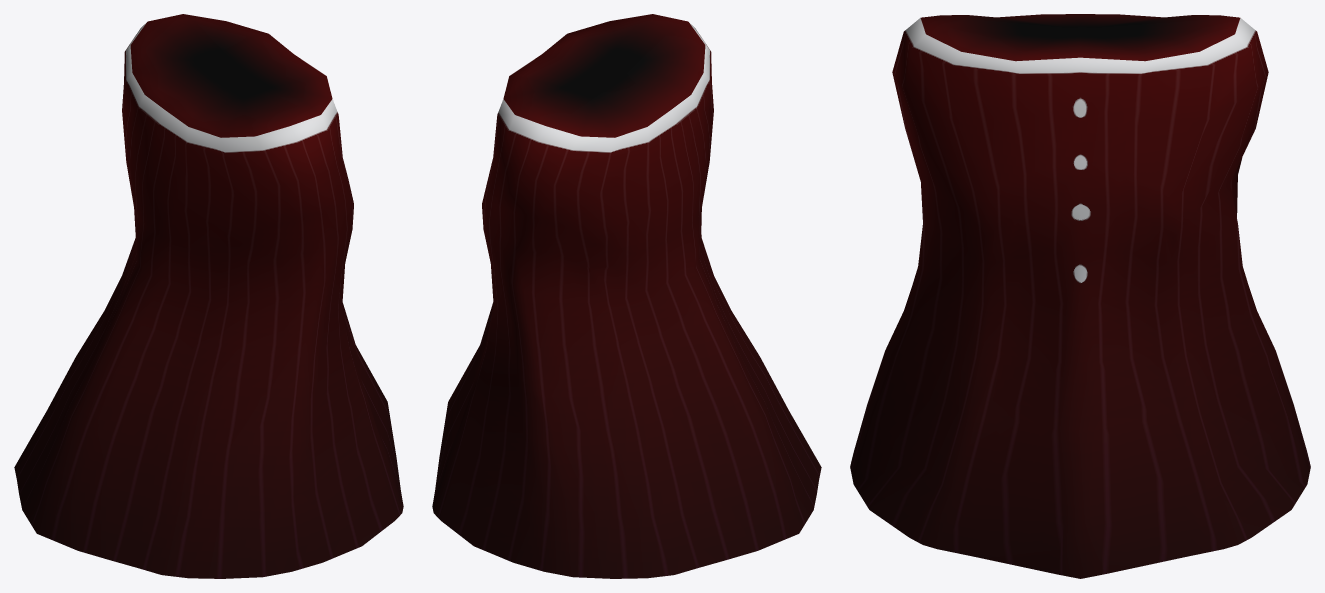
Rendered from HatredEnemyBody.fbx.
3 views of the same model, side by side, from view 1: azimuth 30°, elevation 25°; view 2: azimuth 150°, elevation 25°; view 3: azimuth 270°, elevation 25° (orthographic). The views are drawn at different scales.
Parts seen in each view (by area): view 1: HatredBody; view 2: HatredBody; view 3: HatredBody.
Boxes of the visible parts, x1,y1,x2,y2 form: HatredBody: [14, 14, 403, 578]; HatredBody: [432, 14, 821, 578]; HatredBody: [850, 14, 1310, 578].
Bounding box in the file's own units: 90.17 × 89.84 × 101.
